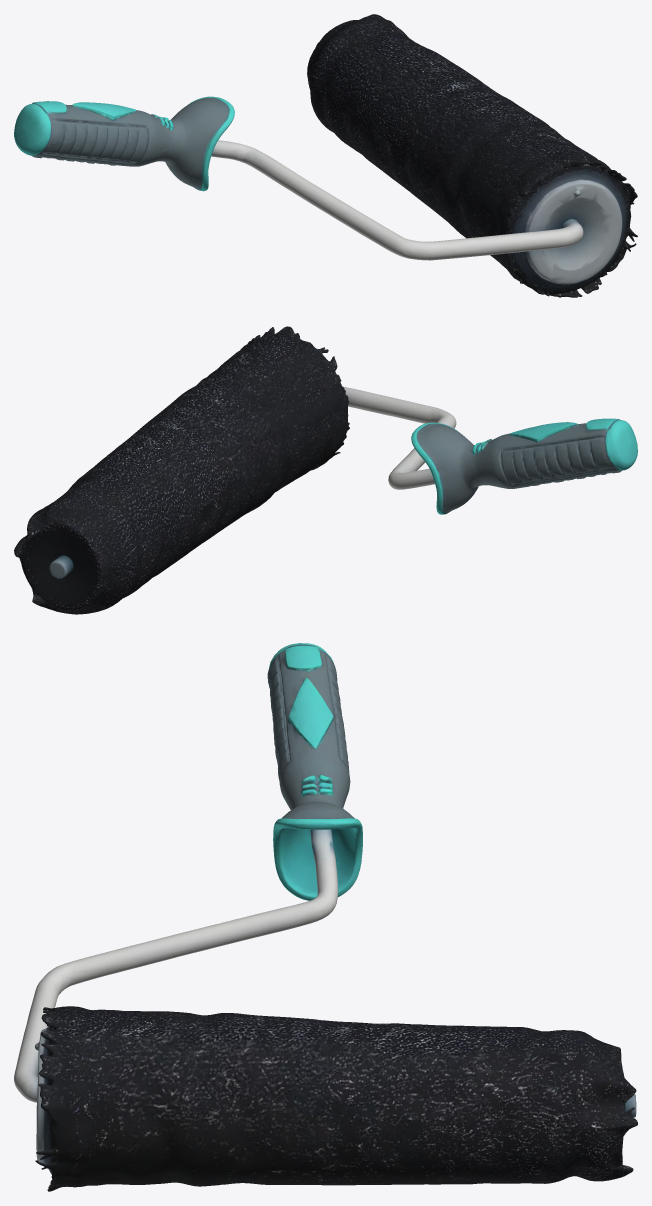
Rendered from nylon-paint-roller.glb.
3 views of the same model, one above another, from view 1: azimuth 30°, elevation 25°; view 2: azimuth 150°, elevation 25°; view 3: azimuth 270°, elevation 25° (orthographic). The views are drawn at different scales.
Parts seen in each view (by area): view 1: tripo_node_d134011b-a7cc-4c4a-9185-370e3808fcc1; view 2: tripo_node_d134011b-a7cc-4c4a-9185-370e3808fcc1; view 3: tripo_node_d134011b-a7cc-4c4a-9185-370e3808fcc1.
Boxes of the visible parts, x1,y1,x2,y2 form: tripo_node_d134011b-a7cc-4c4a-9185-370e3808fcc1: [14, 14, 637, 297]; tripo_node_d134011b-a7cc-4c4a-9185-370e3808fcc1: [14, 326, 637, 614]; tripo_node_d134011b-a7cc-4c4a-9185-370e3808fcc1: [14, 643, 637, 1191].
Bounding box in the file's own units: 1 × 0.4189 × 0.8522.
Materials: 1 (1 with a texture image).
